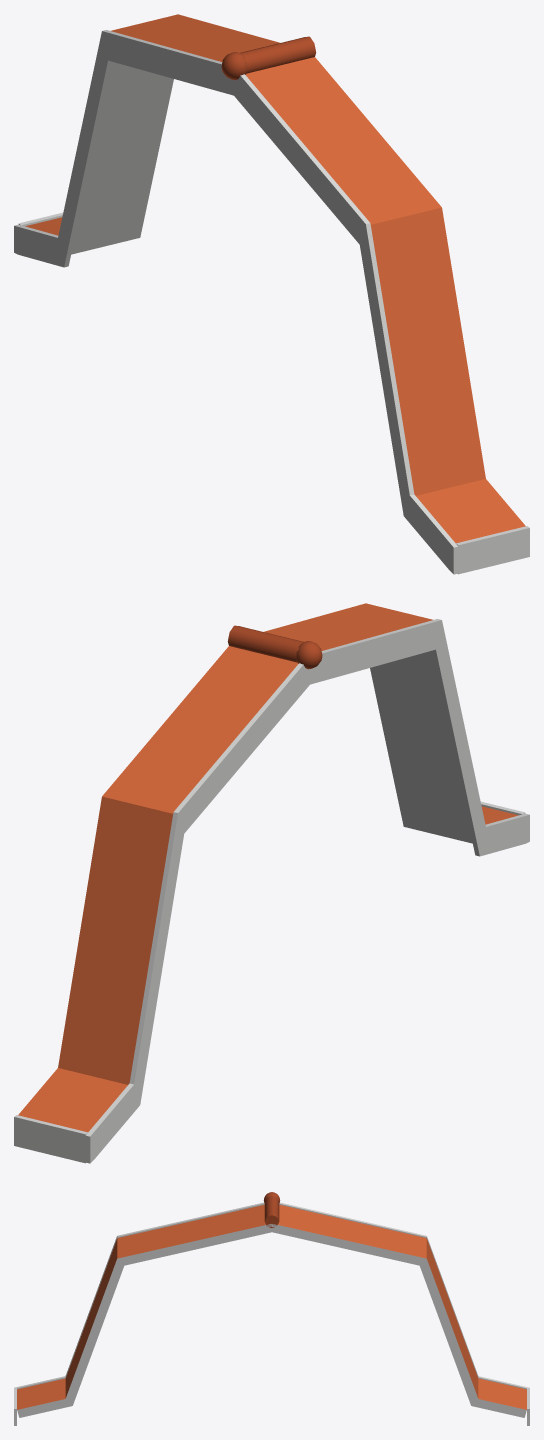
Rendered from telhado_mansarda_empena_v4.glb.
3 renders of one model, top to bottom at view 1: azimuth 30°, elevation 25°; view 2: azimuth 150°, elevation 25°; view 3: azimuth 270°, elevation 25°, orthographic. The views are drawn at different scales.
Parts seen in each view (by area): view 1: telhado_mansarda_empena_v4; view 2: telhado_mansarda_empena_v4; view 3: telhado_mansarda_empena_v4.
Part boxes in pixels (box(x1,y1,x2,y2)): telhado_mansarda_empena_v4: box(14, 14, 529, 574); telhado_mansarda_empena_v4: box(14, 603, 529, 1163); telhado_mansarda_empena_v4: box(14, 1192, 529, 1425).
Bounding box in the file's own units: 0.57 × 2.26 × 5.
